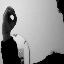o: (1, 6, 18, 30)
